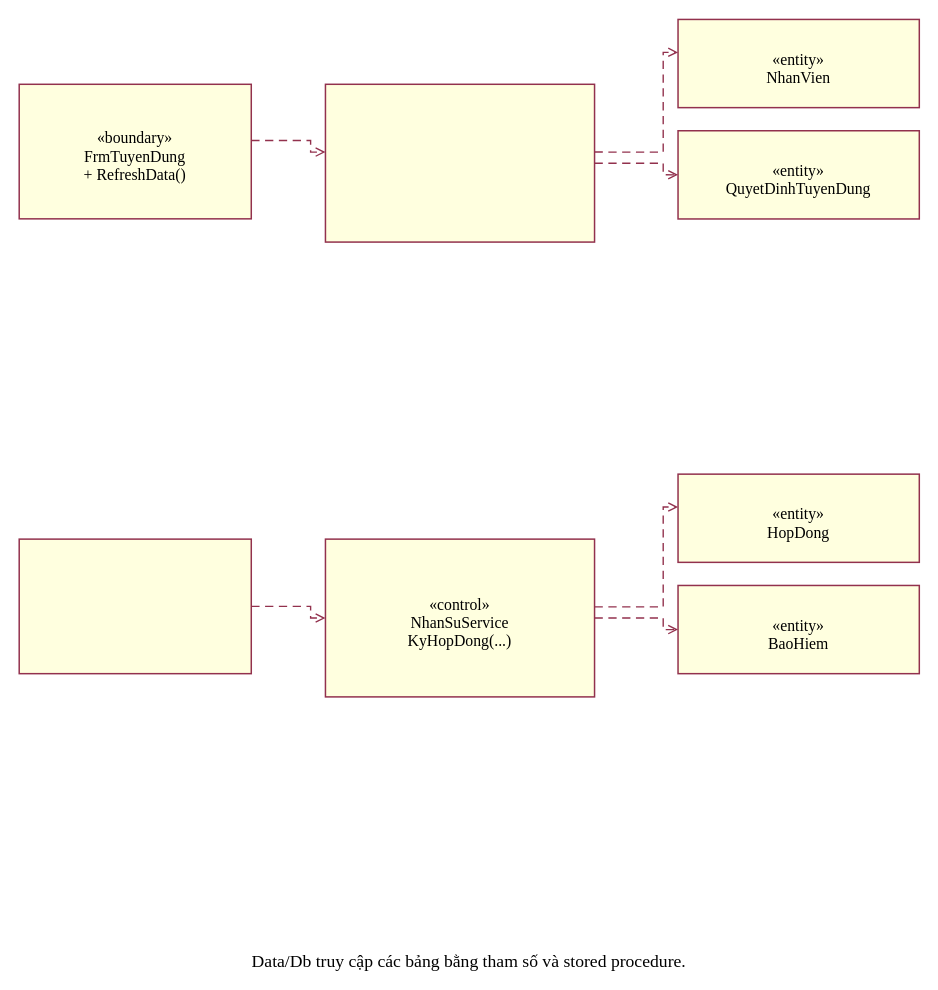
This 938x990 diagram has some shape labels left out. The shapes that lost their labels are listed below. From the top down, each one's centre as x and y in pixels, then its label:
(459,162): «control» NhanSuService TuyenDung() + DanhGia(...)
(135,606): «boundary» FrmHopDong + RefreshData()
